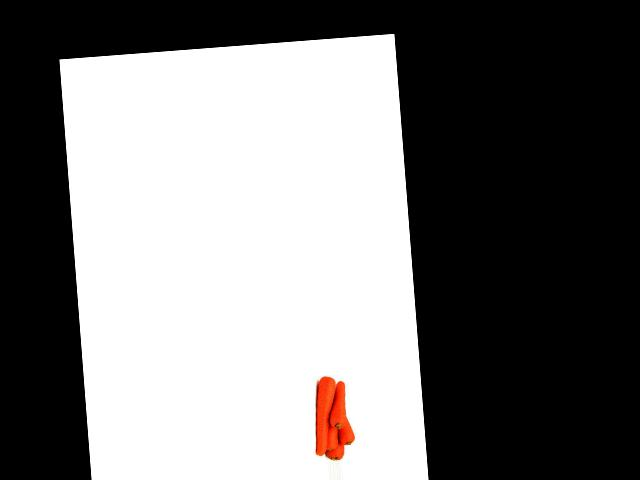carrot: (335, 413, 354, 447)
